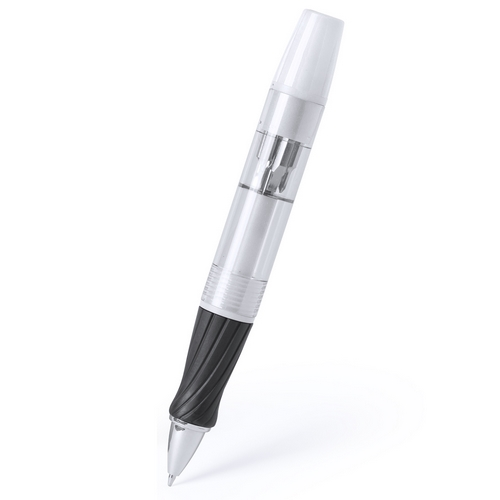Boligrafo: (157, 3, 349, 493)
